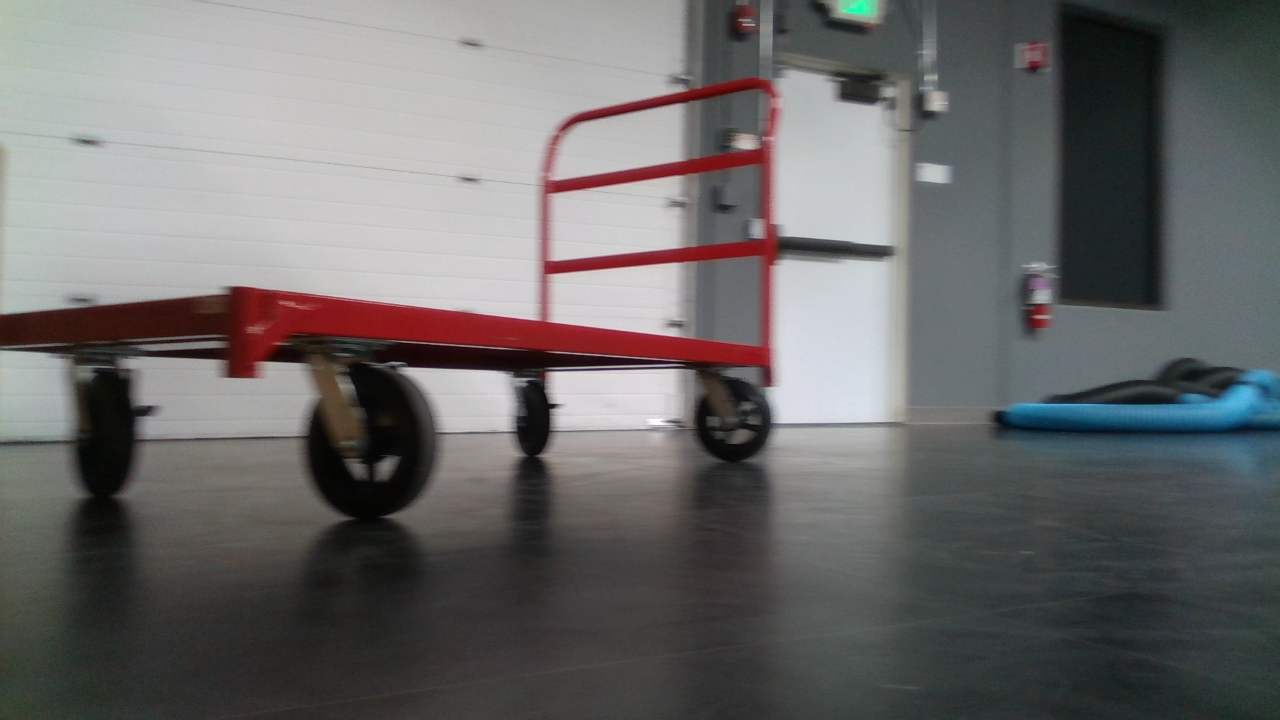Dolly: (0, 74, 782, 523)
Wheel: (302, 366, 439, 521), (72, 360, 159, 502), (691, 377, 772, 462), (509, 374, 561, 459)
